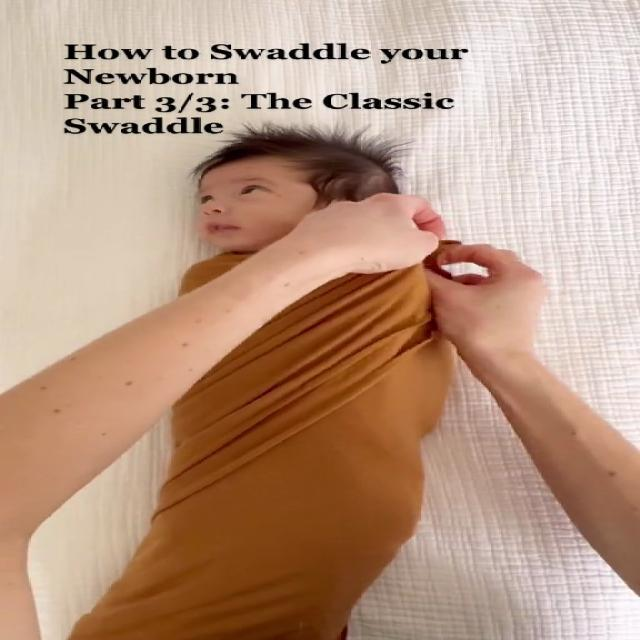baby: (67, 129, 457, 640)
